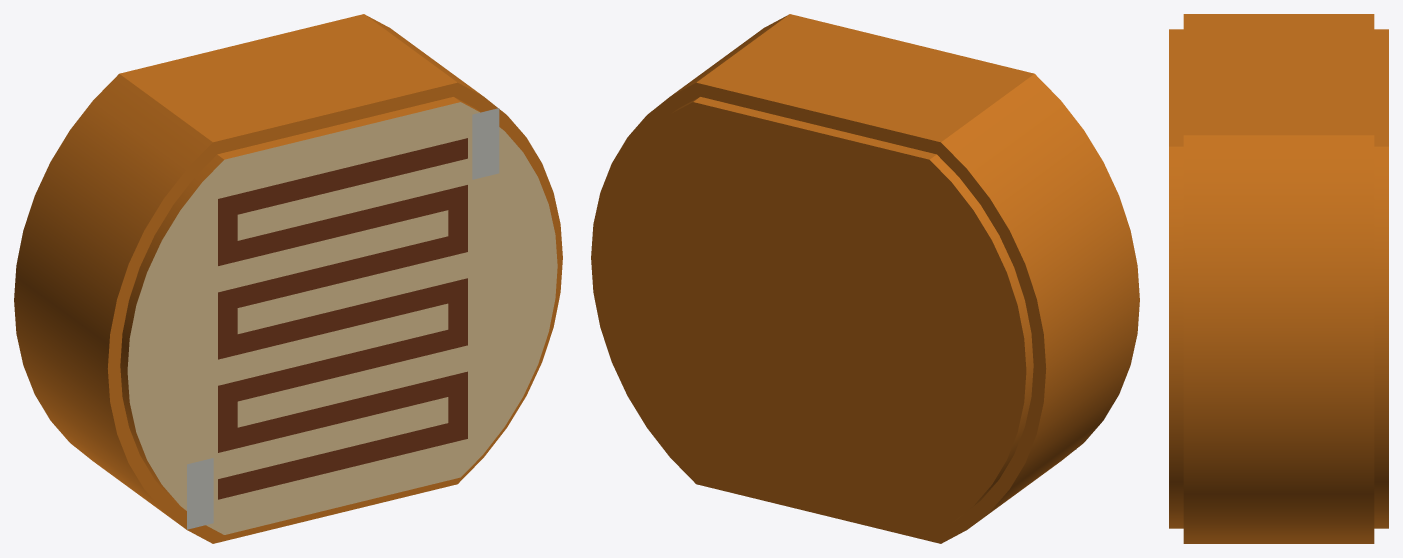
Rendered from ldr.glb.
3 renders of one model, left to right at view 1: azimuth 30°, elevation 25°; view 2: azimuth 150°, elevation 25°; view 3: azimuth 270°, elevation 25°, orthographic.
Visible parts, largest first — view 1: body; view 2: body; view 3: body.
Part boxes in pixels (x1,y1,x2,y2): body: (14, 14, 562, 543); body: (591, 14, 1139, 543); body: (1169, 14, 1388, 543).
Bounding box in the file's own units: 5.1 × 4.3 × 2.11.
